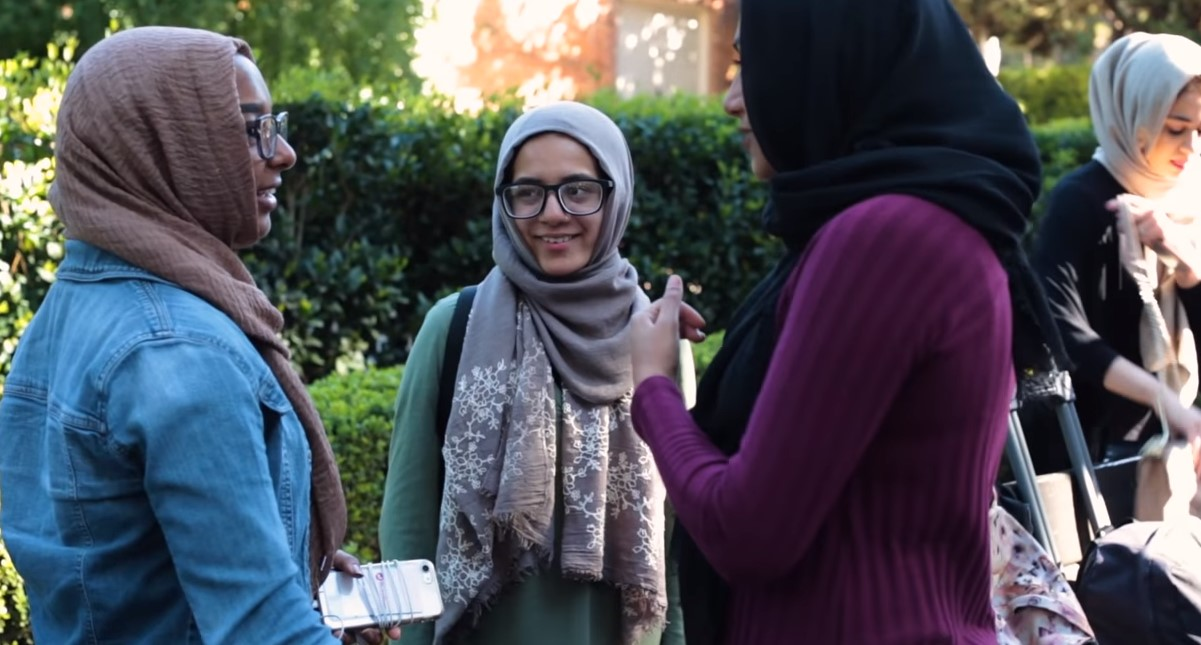face_no_mask: (491, 114, 613, 292)
